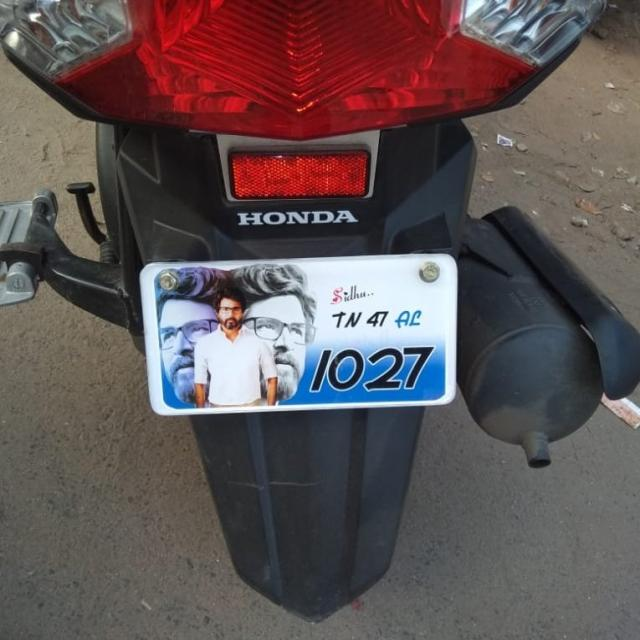license_plate: (138, 252, 458, 414)
